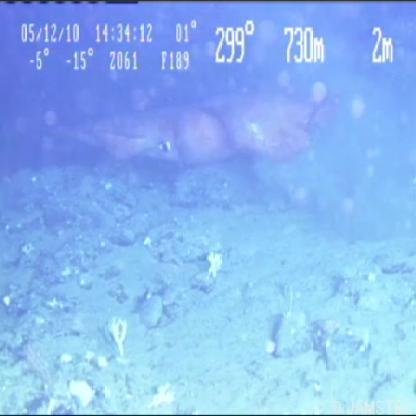Bio: (65, 83, 353, 177)
